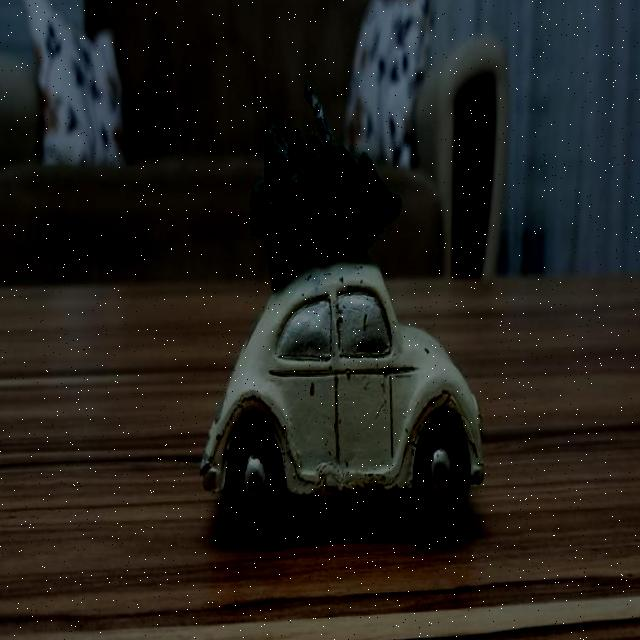car: (188, 256, 488, 538)
